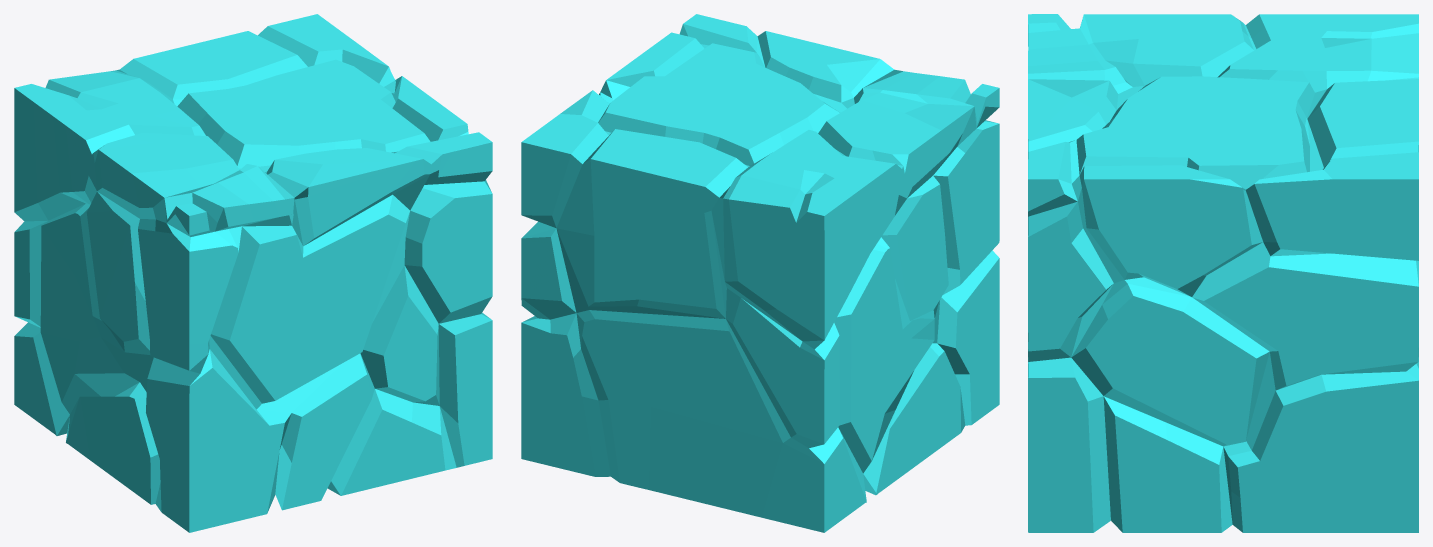
Rendered from ARID_Base.fbx.
3 views of the same model, side by side, from view 1: azimuth 30°, elevation 25°; view 2: azimuth 150°, elevation 25°; view 3: azimuth 270°, elevation 25° (orthographic). The views are drawn at different scales.
Parts seen in each view (by area): view 1: BSurfaceMesh; view 2: BSurfaceMesh; view 3: BSurfaceMesh.
Boxes of the visible parts, x1=… form: BSurfaceMesh: x1=14, y1=14, x2=492, y2=532; BSurfaceMesh: x1=521, y1=14, x2=999, y2=532; BSurfaceMesh: x1=1028, y1=14, x2=1418, y2=532.
Bounding box in the file's own units: 200 × 200 × 200.
